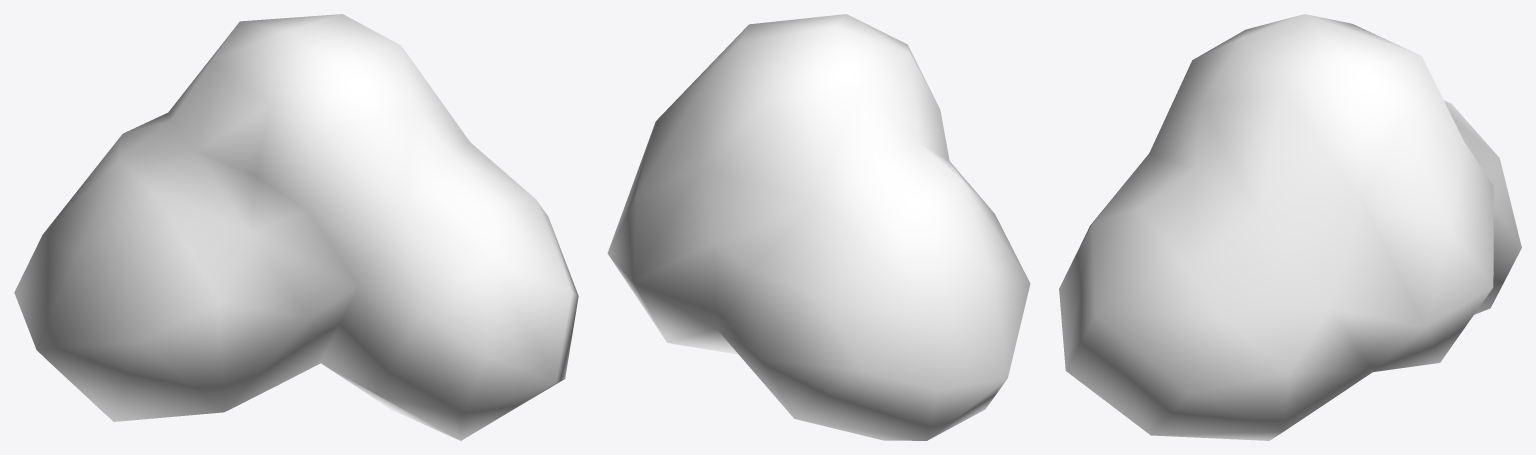
Rendered from test_hojasbase(1).fbx.
3 renders of one model, left to right at view 1: azimuth 30°, elevation 25°; view 2: azimuth 150°, elevation 25°; view 3: azimuth 270°, elevation 25°, orthographic. The views are drawn at different scales.
Parts seen in each view (by area): view 1: Mball.005; view 2: Mball.005; view 3: Mball.005.
Boxes of the visible parts, x1=… form: Mball.005: x1=14, y1=14, x2=578, y2=440; Mball.005: x1=607, y1=14, x2=1030, y2=440; Mball.005: x1=1059, y1=14, x2=1521, y2=440.
Bounding box in the file's own units: 6.82 × 5.38 × 6.29.
Materials: 1 (1 with a texture image).
